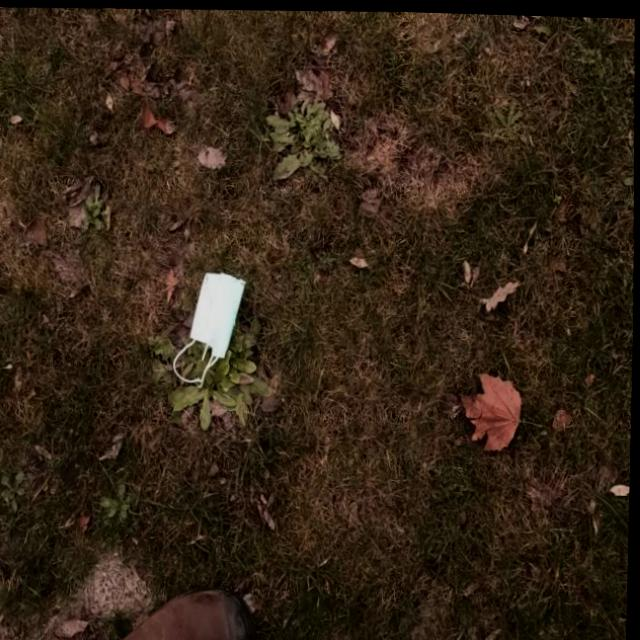Mask: (170, 265, 250, 390)
